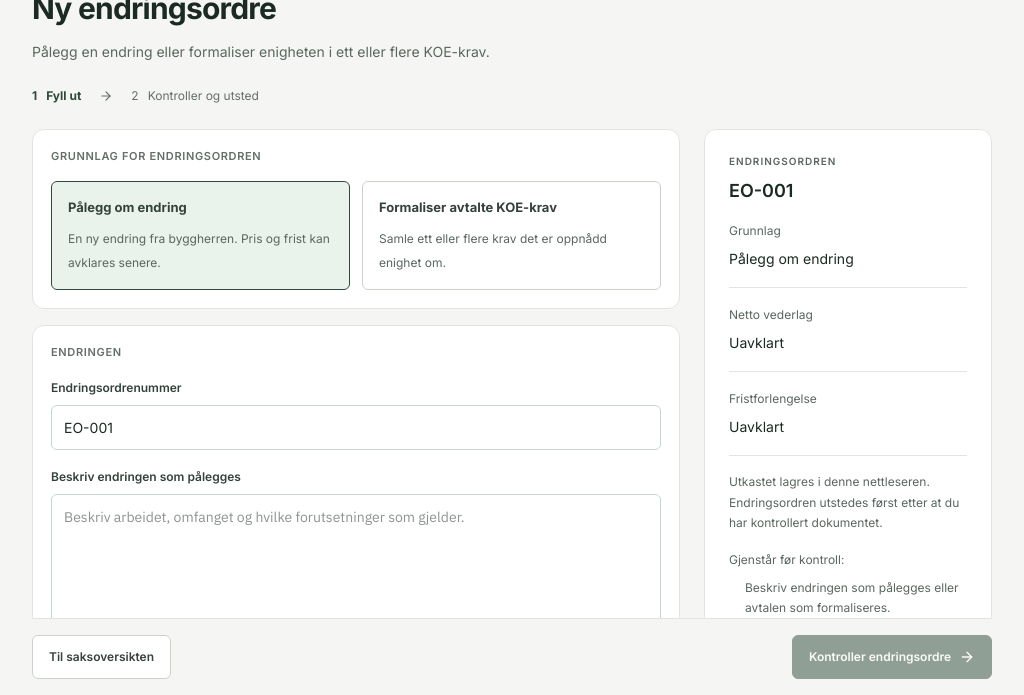
Test: utsted endringsordre › preserves direct consequences when switching creation mode
expect the field labelled "Endringsordrenummer" holds "EO-001": met, box [51, 405, 661, 450]
Click the button "Formaliser avtalte KOE-krav". click: [512, 236]
box: [362, 181, 661, 290]
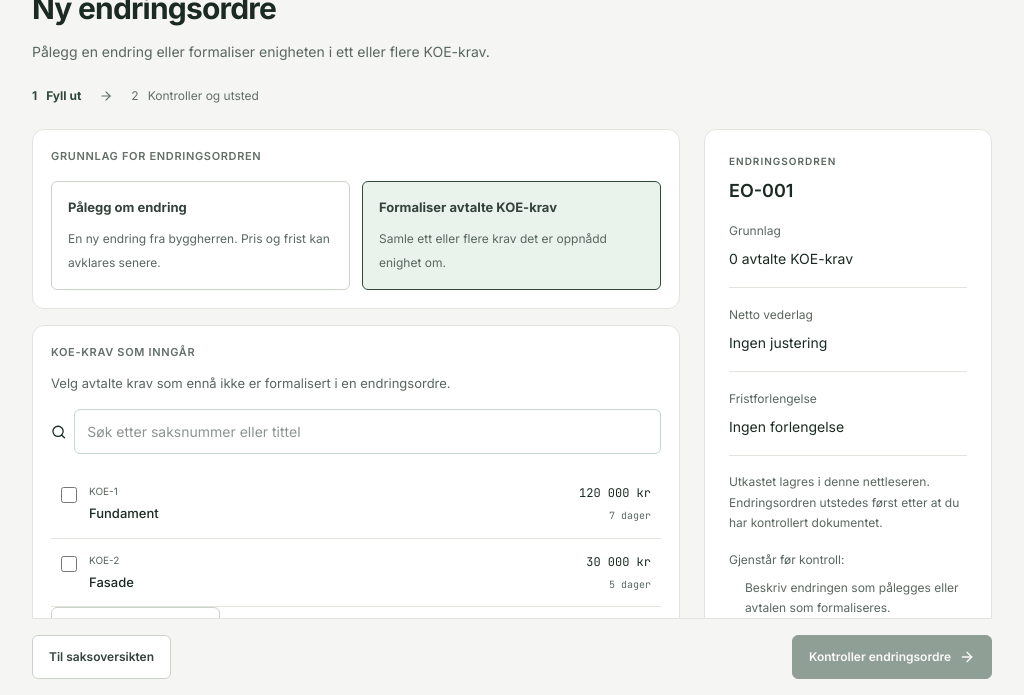
Click the button "Pålegg om endring". click: [200, 236]
box: [51, 181, 350, 290]
(page scrolled)
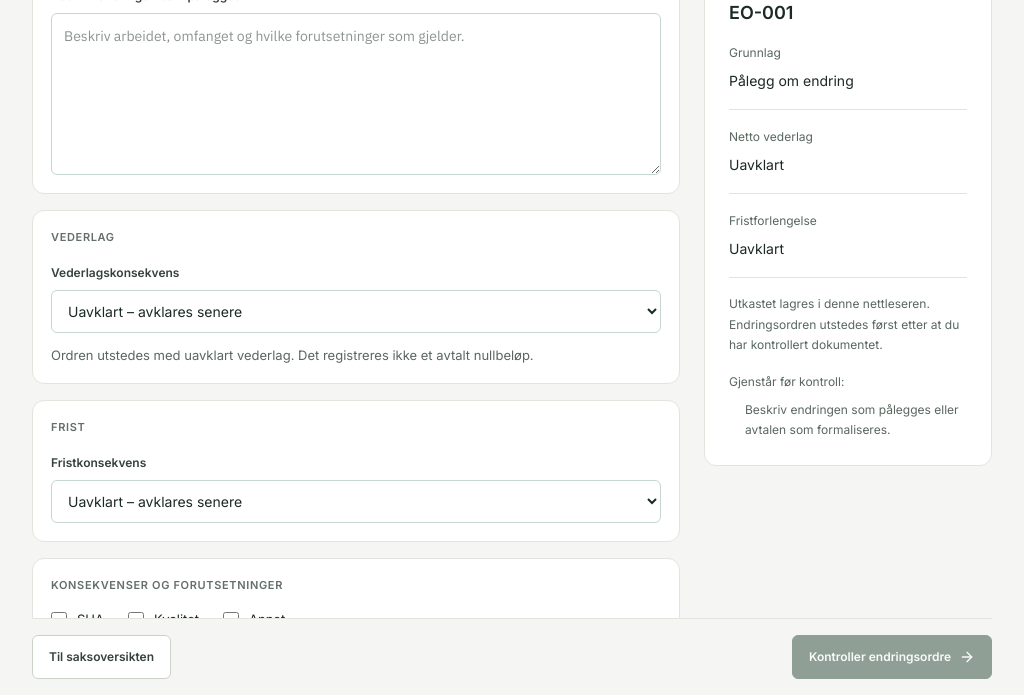
expect the dropdown labelled "Vederlagskonsekvens" shows "Uavklart – avklares senere": met
expect the dropdown labelled "Fristkonsekvens" shows "Uavklart – avklares senere": met, box [51, 480, 661, 523]
Select "Angi vederlagsjustering" in the dropdown labelled "Vederlagskonsekvens". click: [356, 312]
box: [51, 290, 661, 333]
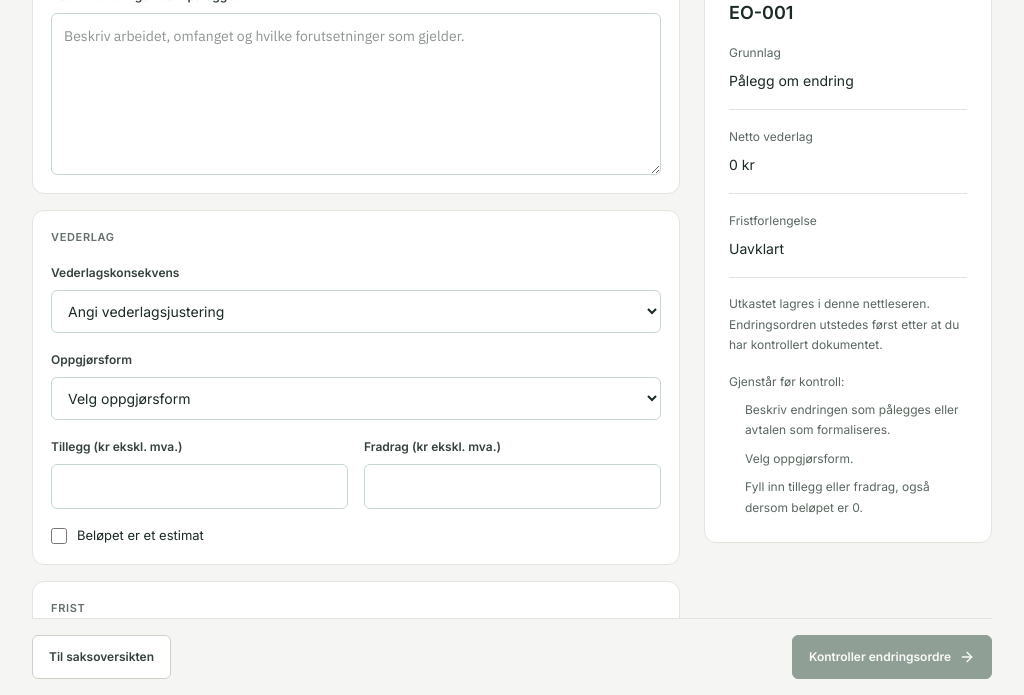
Type "45000" into the number field labelled "Tillegg (kr ekskl. mva.)". click: [200, 486]
box: [51, 464, 348, 509]
(page scrolled)
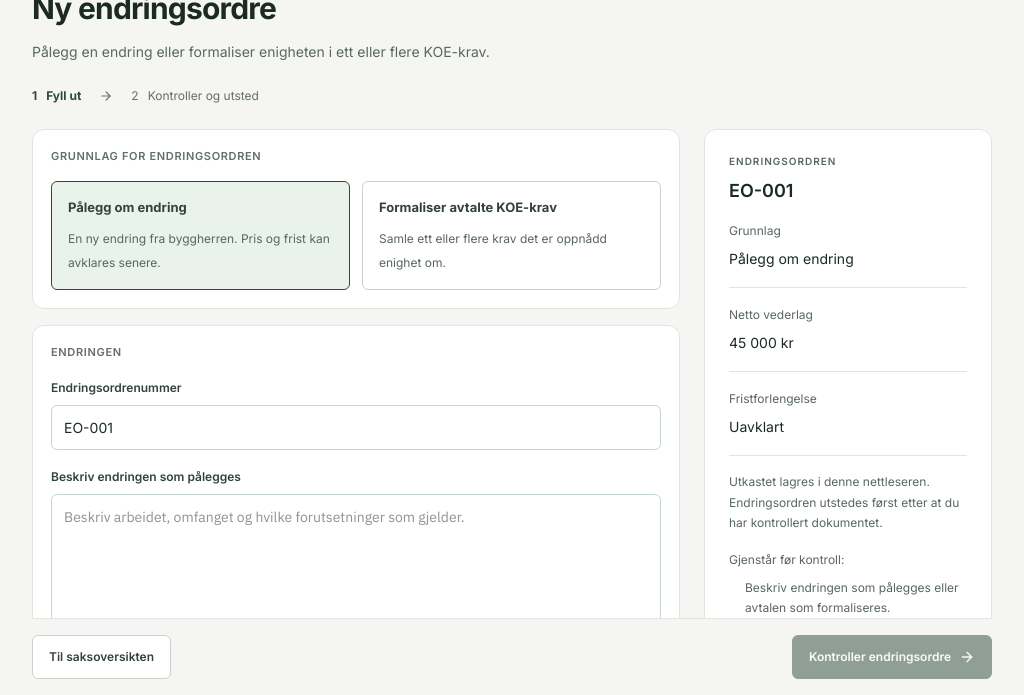
Click the button "Formaliser avtalte KOE-krav". click: [512, 236]
box: [362, 181, 661, 290]
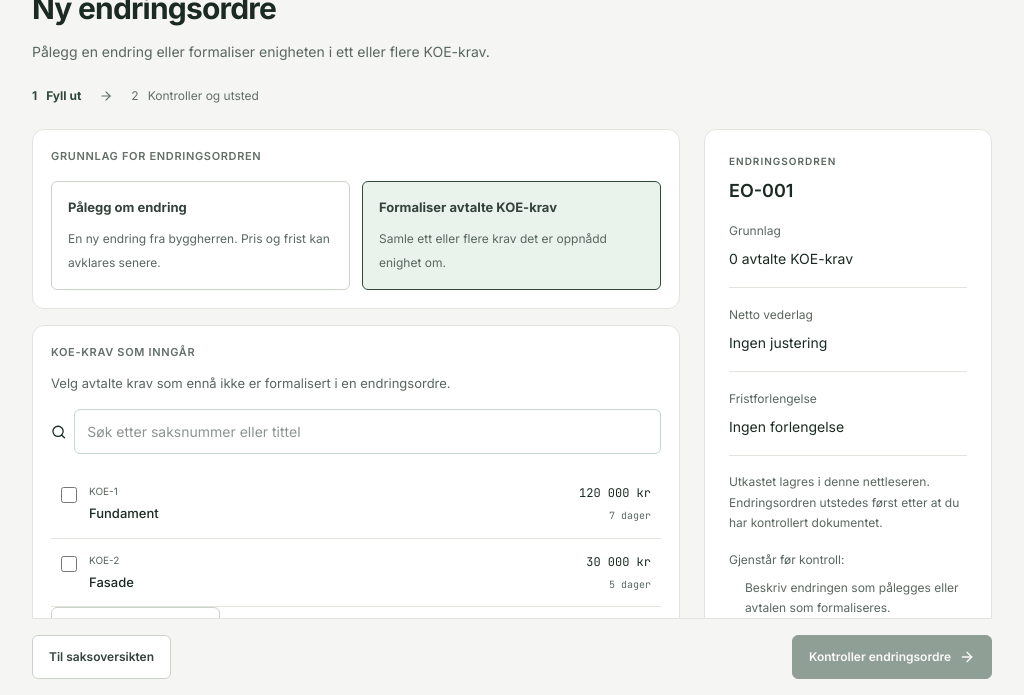
Click the button "Pålegg om endring". click: [200, 236]
box: [51, 181, 350, 290]
(page scrolled)
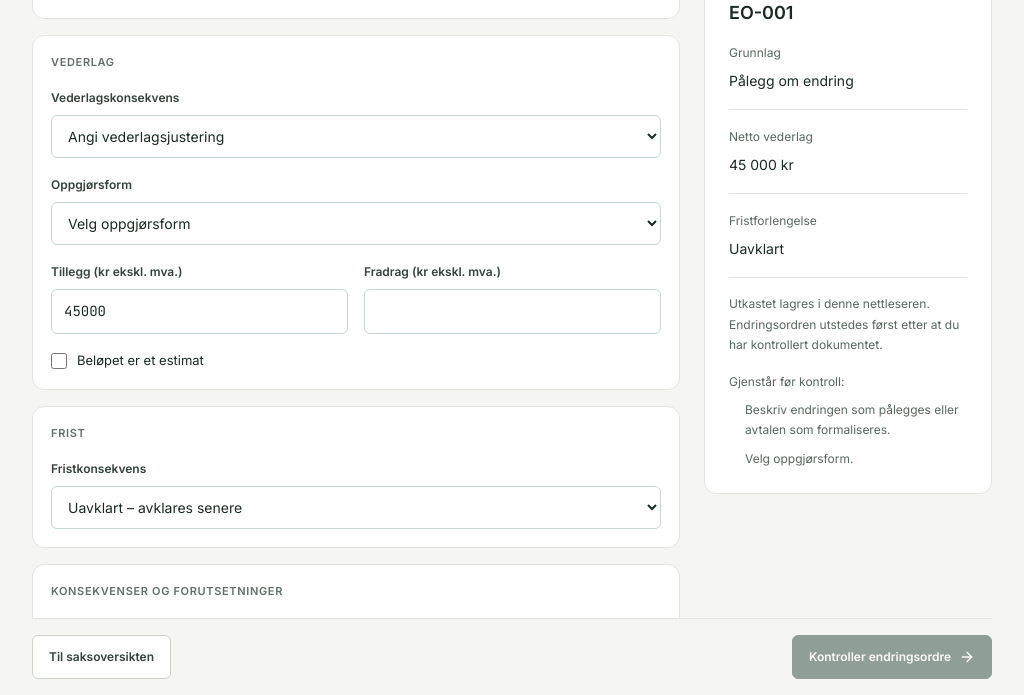
expect the number field labelled "Tillegg (kr ekskl. mva.)" holds "45000": met, box [51, 289, 348, 334]
